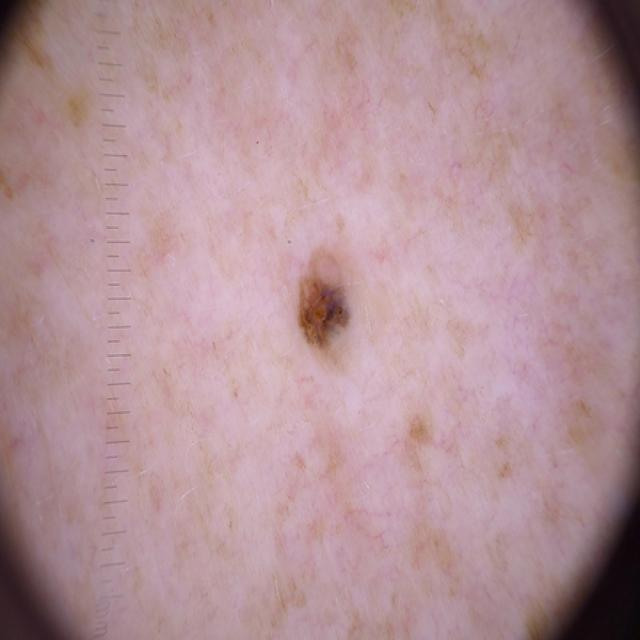Skin-Cancer Pigmented benign keratosis: (87, 52, 610, 640)
